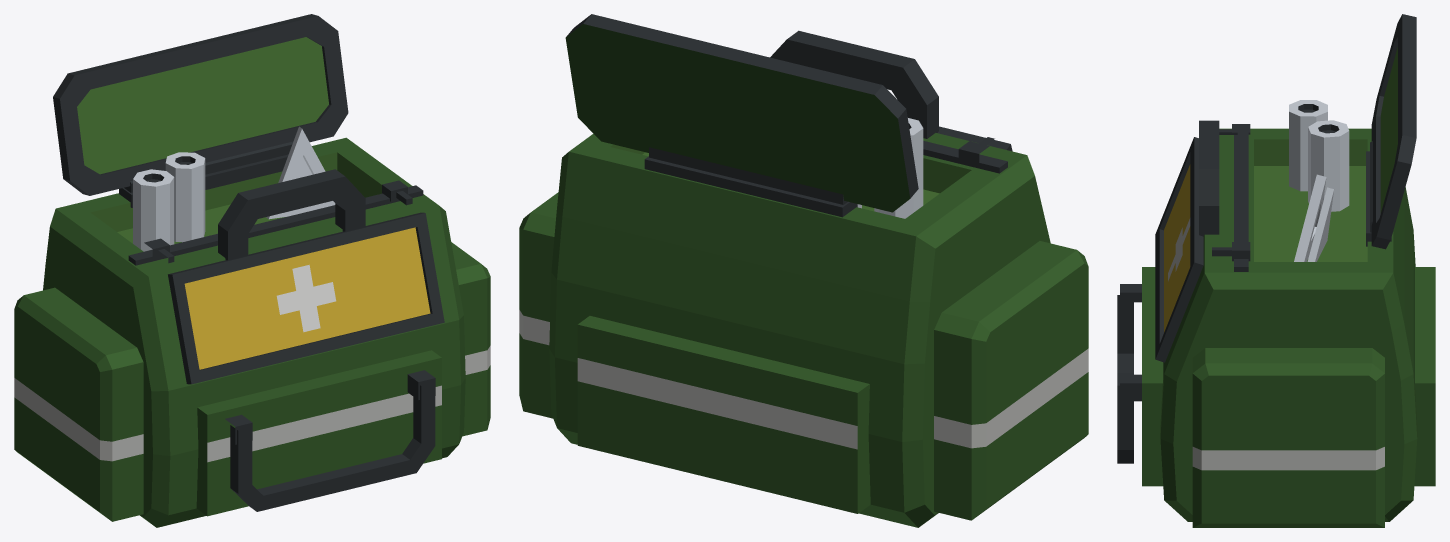
Rendered from first-aid-bag-8a7f09.glb.
3 views of the same model, side by side, from view 1: azimuth 30°, elevation 25°; view 2: azimuth 150°, elevation 25°; view 3: azimuth 270°, elevation 25° (orthographic). The views are drawn at different scales.
Visible parts, largest first — view 1: bag-body, flap-mesh, dressing-mesh, bandage-mesh; view 2: bag-body, flap-mesh, dressing-mesh; view 3: bag-body, flap-mesh, dressing-mesh, bandage-mesh.
Part boxes in pixels (left/top/right/bottom): bag-body: left=14, top=137, right=490, bottom=527; flap-mesh: left=53, top=14, right=348, bottom=195; dressing-mesh: left=133, top=152, right=205, bottom=251; bandage-mesh: left=266, top=126, right=335, bottom=219; bag-body: left=519, top=30, right=1088, bottom=527; flap-mesh: left=565, top=14, right=918, bottom=212; dressing-mesh: left=857, top=118, right=923, bottom=218; bag-body: left=1117, top=120, right=1435, bottom=527; flap-mesh: left=1371, top=14, right=1416, bottom=249; dressing-mesh: left=1289, top=100, right=1349, bottom=211; bandage-mesh: left=1294, top=174, right=1333, bottom=261.
Bounding box in the file's own units: 0.5 × 0.4518 × 0.347.
